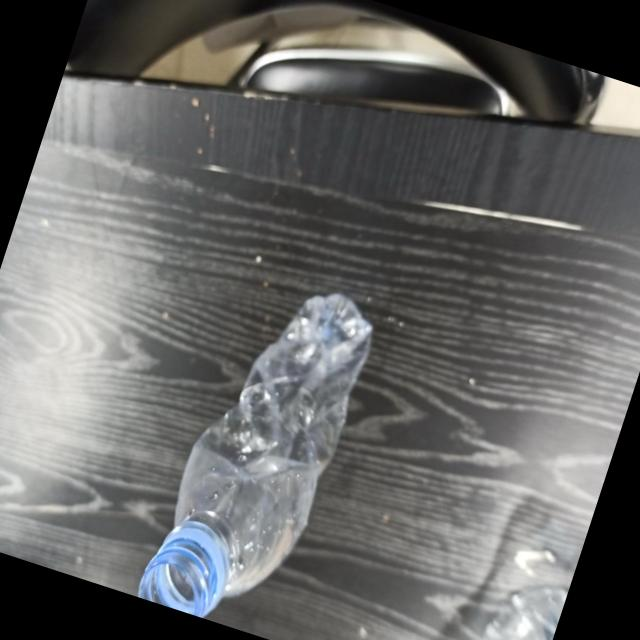BotolPlastik: (135, 262, 385, 640), (458, 560, 571, 640)
